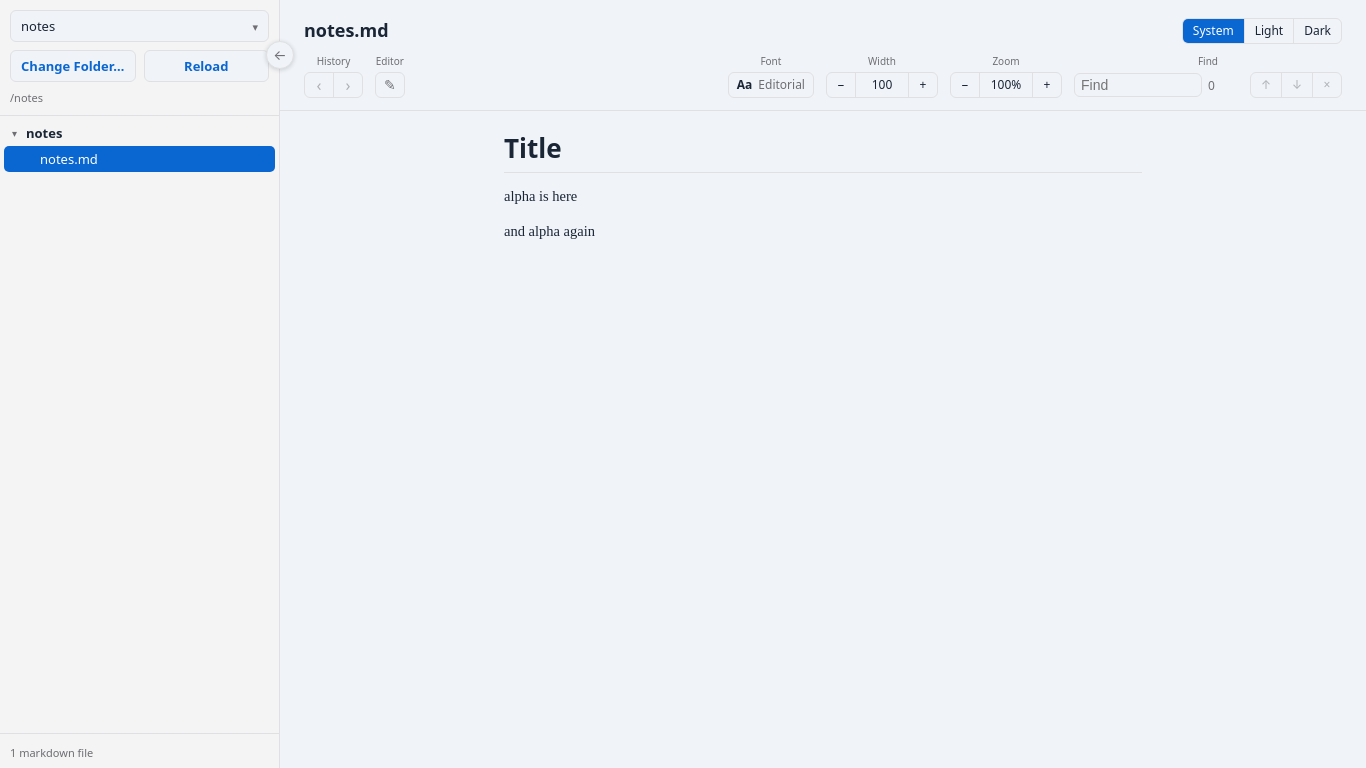
Test case: marks hits and moves the current one
The image size is (1366, 768).
Type "alpha" into the field named "Find in document".
click(1138, 85); type("alpha")  # box [1074,73,1202,97]
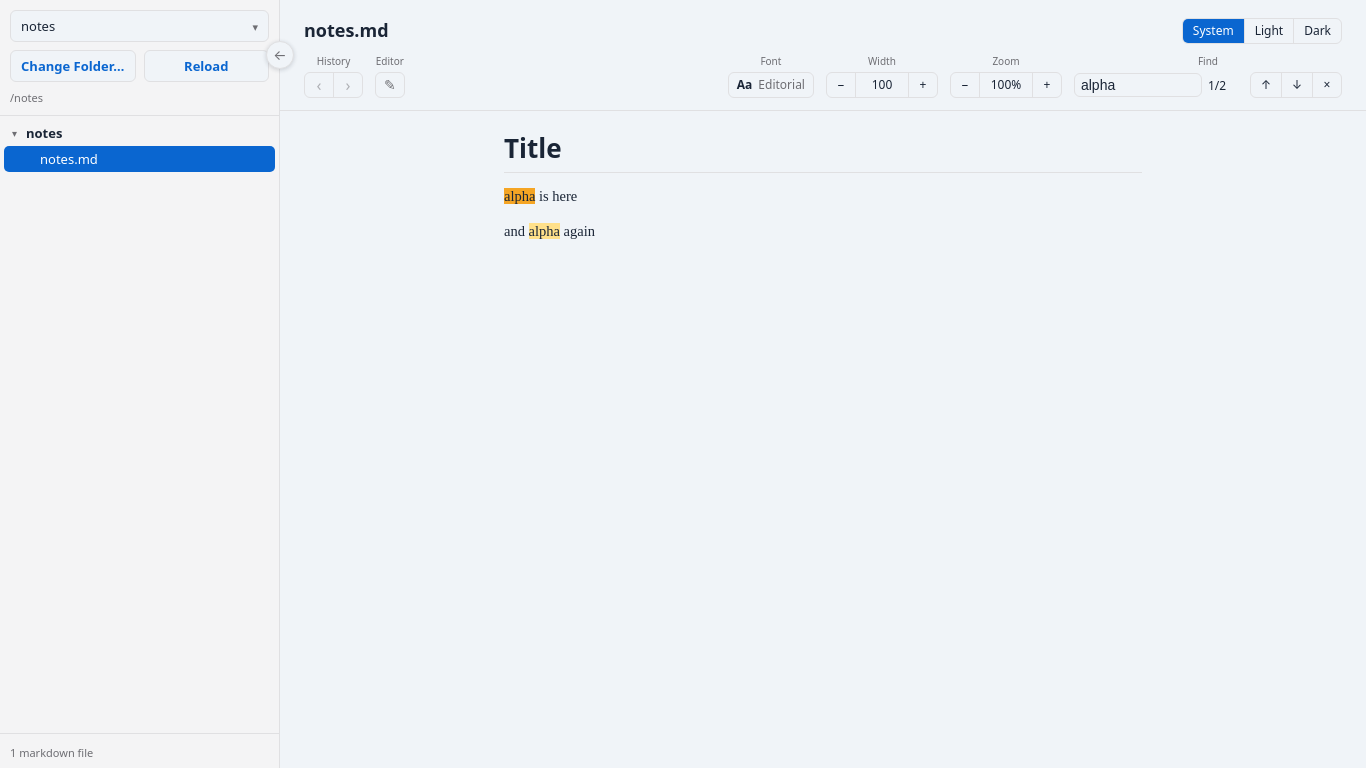
Result: the text named "Match 1 of 2" is shown at [1208,76,1226,94]
Click the button named "Next match".
click(1297, 85)  # box [1282,73,1312,97]
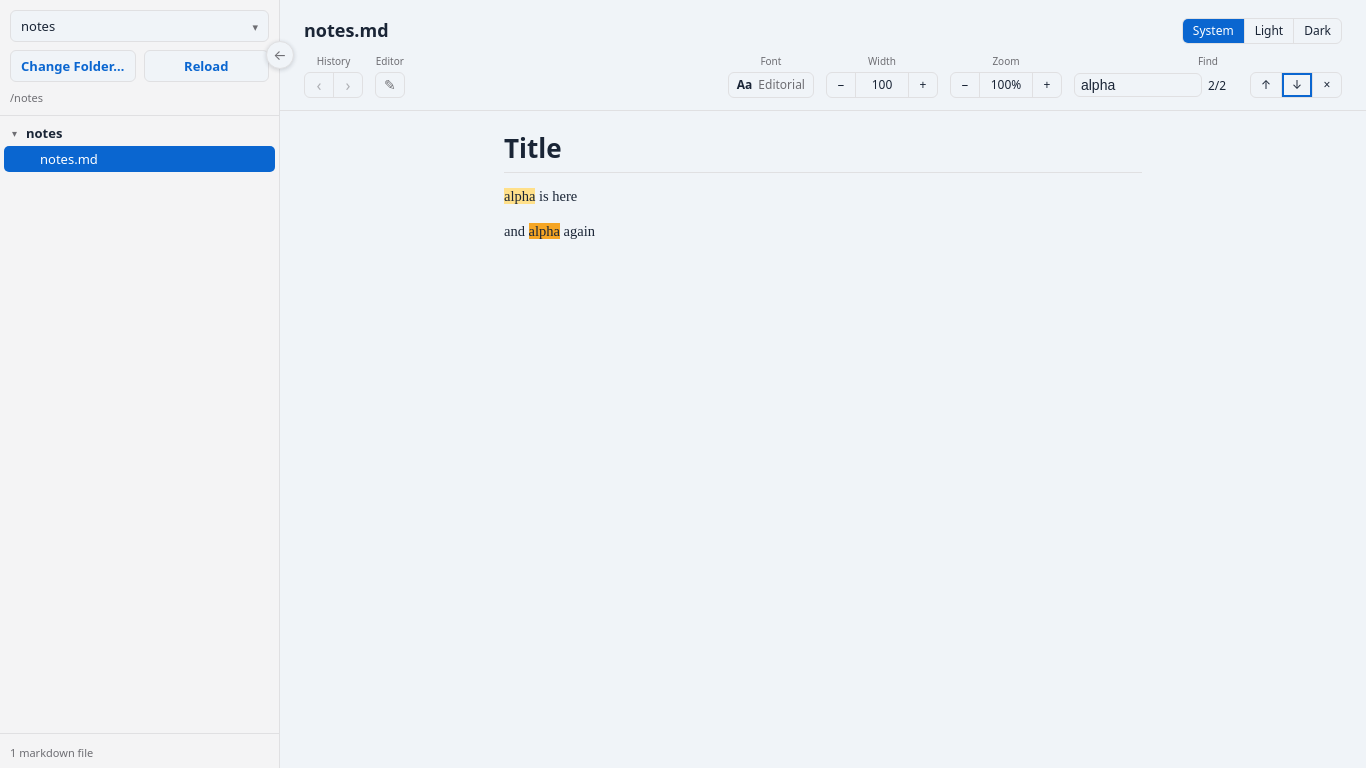
Result: the text named "Match 2 of 2" is shown at [1208,76,1226,94]
